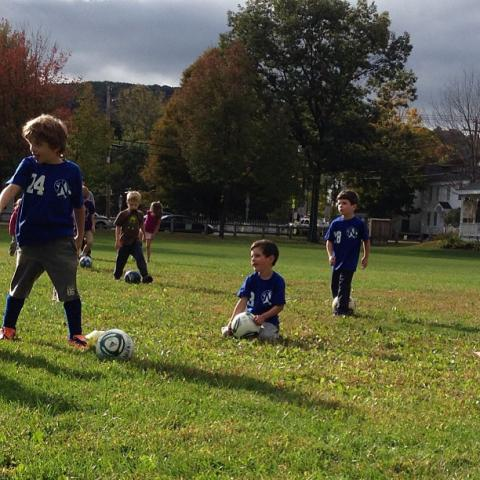car: (158, 215, 214, 234), (294, 218, 330, 240), (95, 212, 113, 228)
